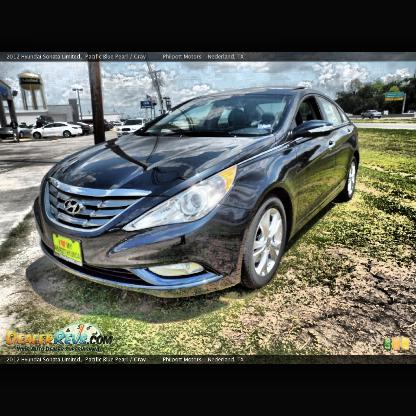Hyundai Sonata Sedan 2012: (36, 88, 361, 300)
